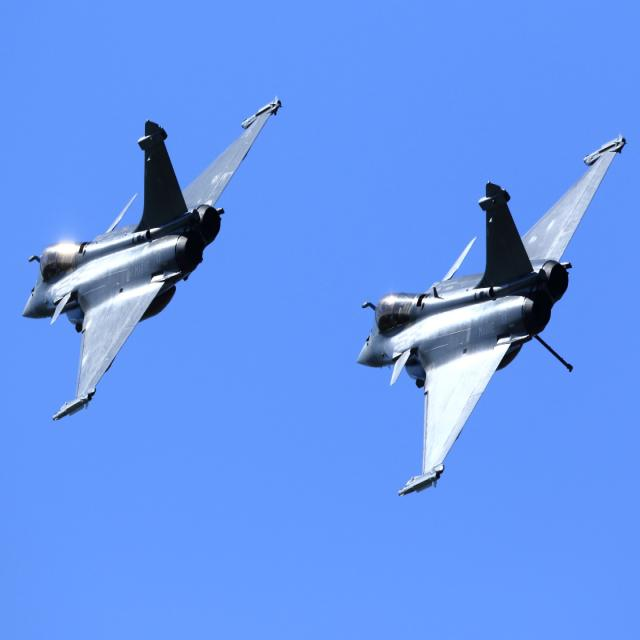MIL_Plane: (358, 131, 625, 497), (21, 95, 283, 422)
